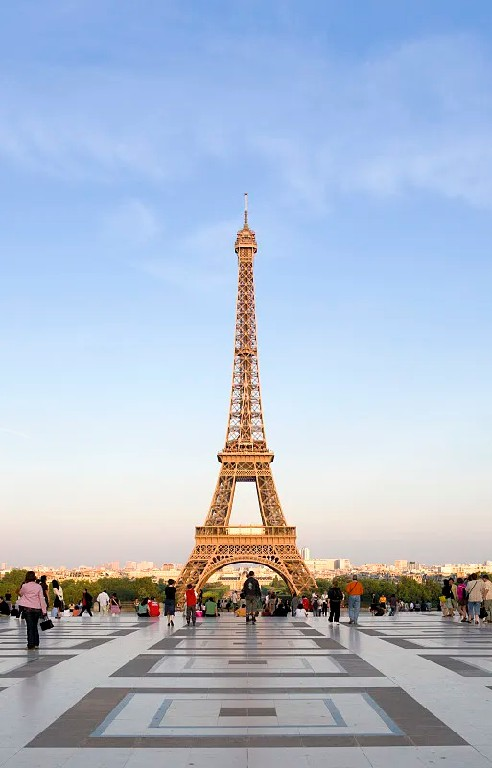Eiffel: (169, 193, 318, 614)
